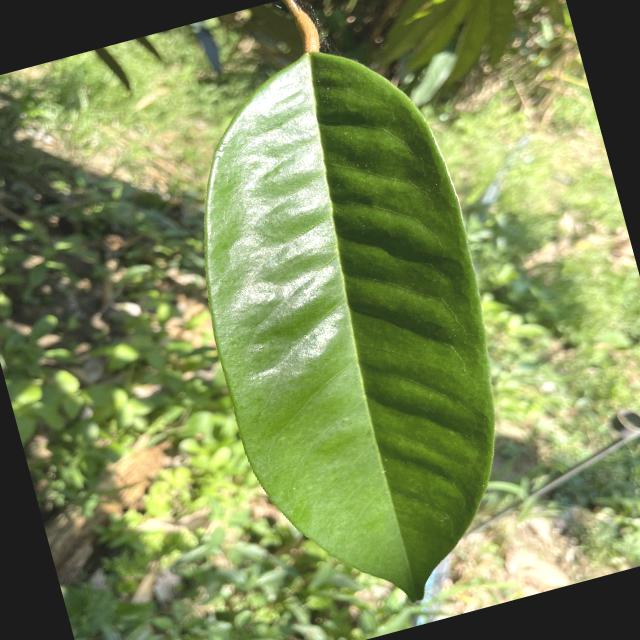No Disease: (126, 16, 571, 639)
